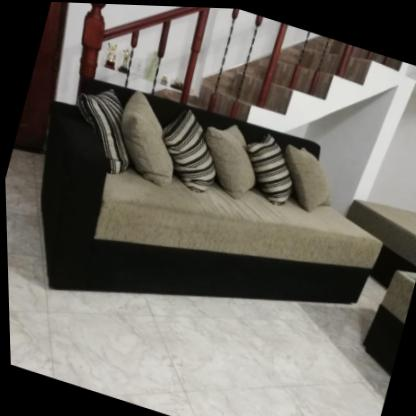Sofa: (1, 58, 406, 382)
